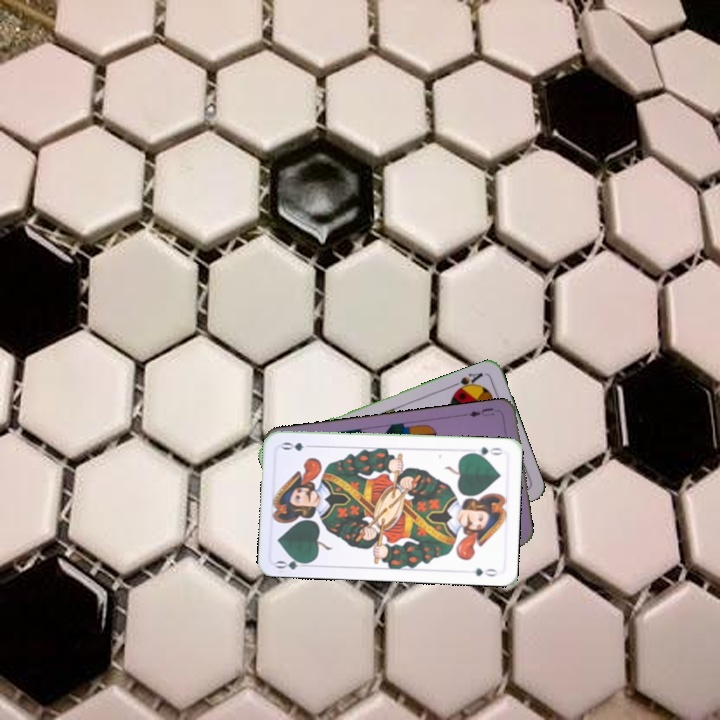EU: (465, 404, 497, 419)
GO: (272, 553, 313, 572), (466, 443, 505, 460)
SA: (448, 368, 485, 395)
